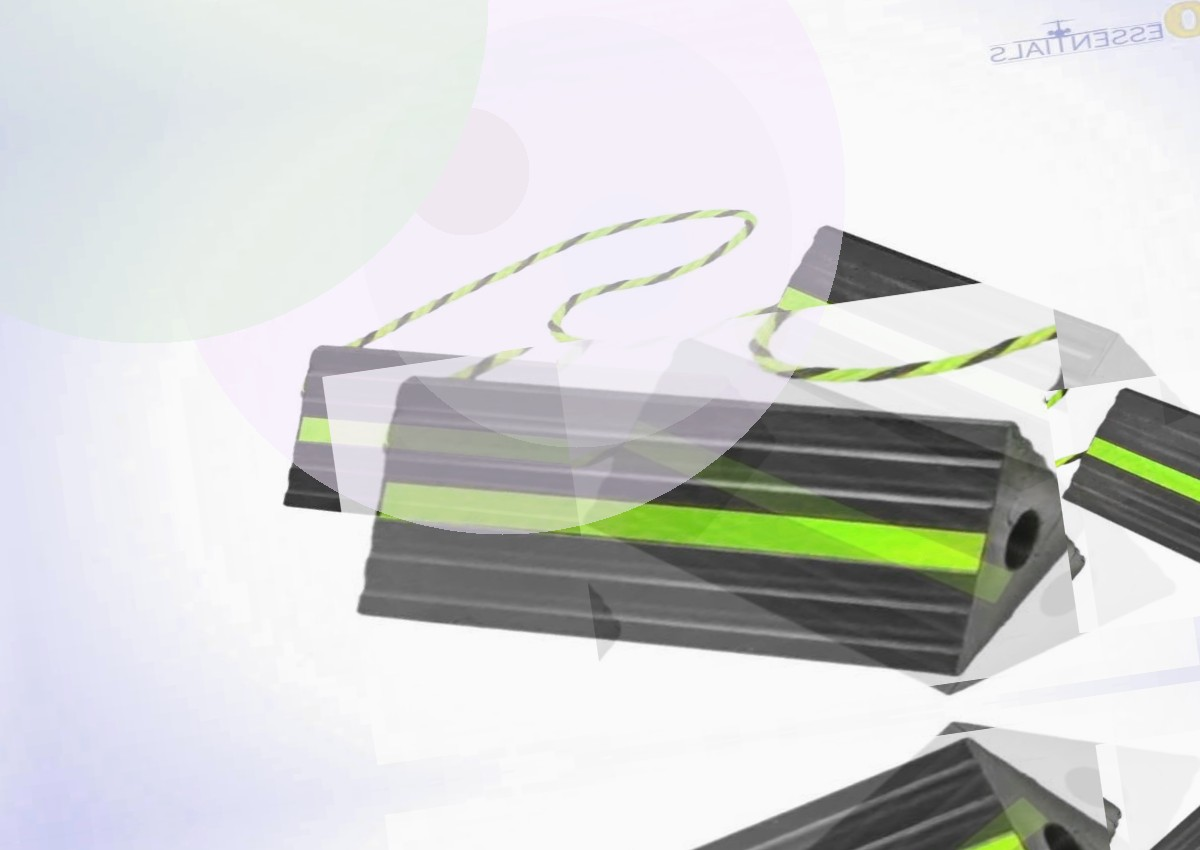chock: (322, 273, 1104, 765), (554, 261, 1200, 749), (259, 276, 786, 608), (725, 168, 1200, 533), (614, 681, 1200, 850), (1045, 342, 1200, 633)
